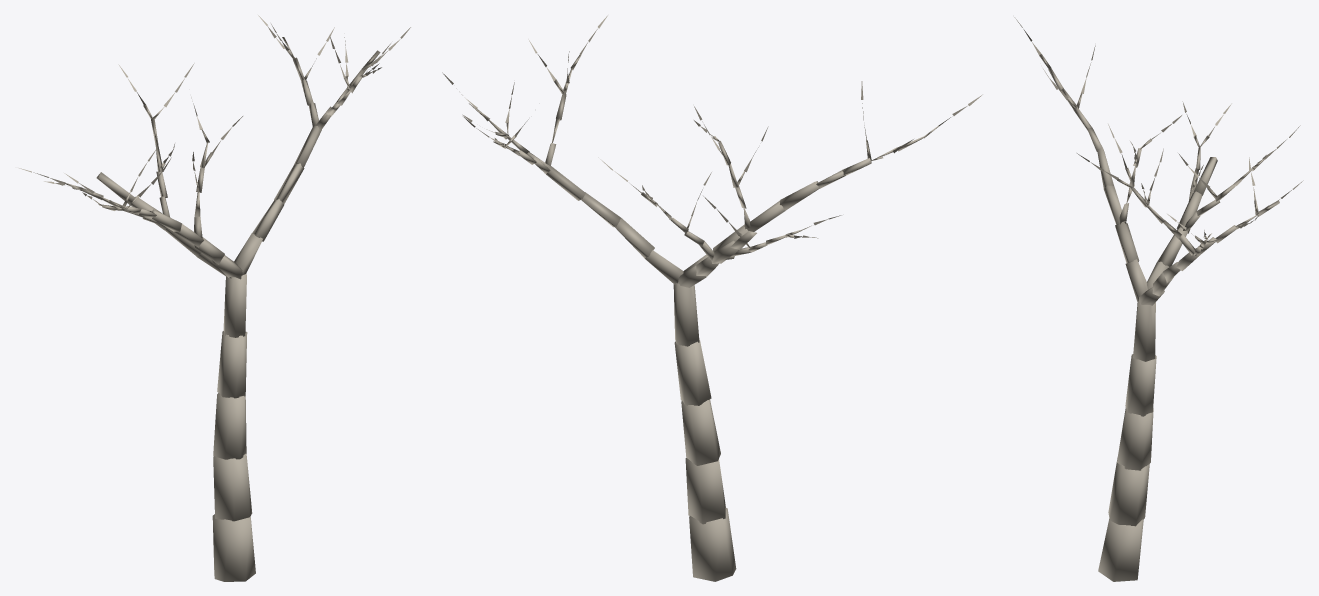
The model's file is tree_dead_a_LOD1.glb.
The picture shows the model from 3 angles, left to right: view 1: azimuth 30°, elevation 25°; view 2: azimuth 150°, elevation 25°; view 3: azimuth 270°, elevation 25°; orthographic projection. The views are drawn at different scales.
Parts seen in each view (by area): view 1: tree_dead_a_LOD1; view 2: tree_dead_a_LOD1; view 3: tree_dead_a_LOD1.
Part boxes in pixels (x1,y1,x2,y2): tree_dead_a_LOD1: (19, 15, 410, 581); tree_dead_a_LOD1: (442, 15, 982, 581); tree_dead_a_LOD1: (1014, 17, 1303, 581).
Size of the model in its own units: 6.83 by 7.57 by 4.15.
